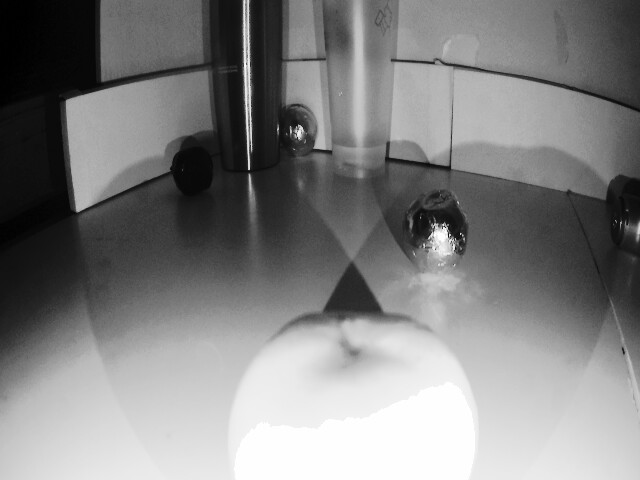black: (407, 182, 472, 277), (272, 98, 320, 158)
silver: (169, 141, 219, 207)
